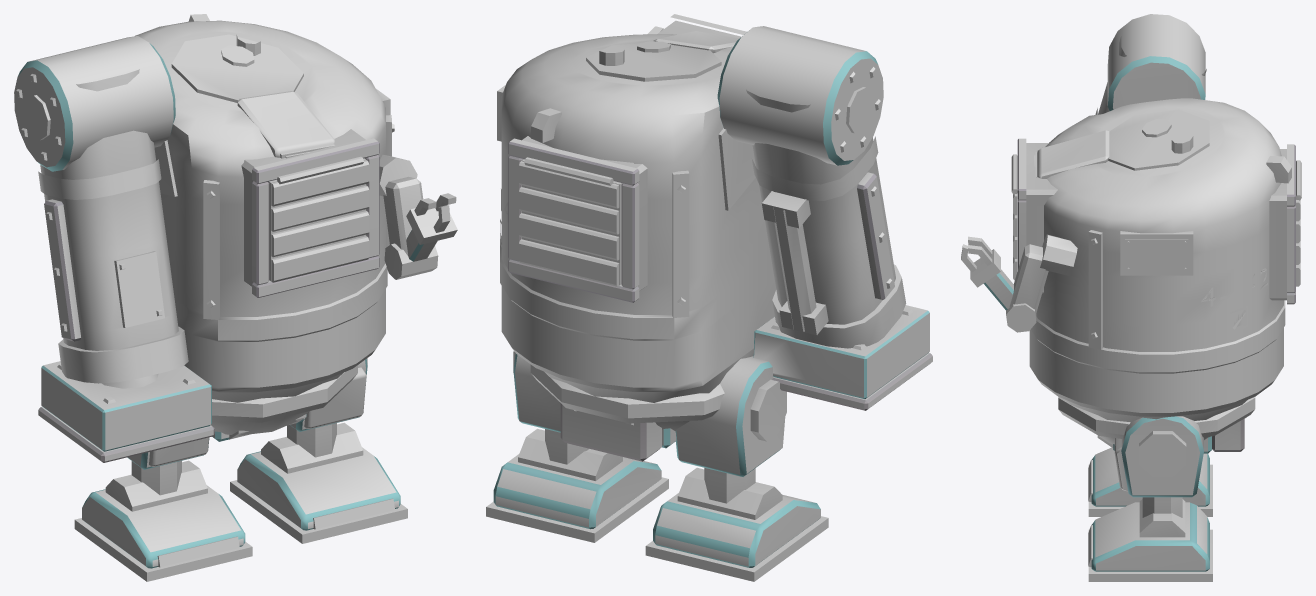
Rendered from tamper_cold_static.glb.
3 renders of one model, left to right at view 1: azimuth 30°, elevation 25°; view 2: azimuth 150°, elevation 25°; view 3: azimuth 270°, elevation 25°, orthographic. The views are drawn at different scales.
Parts seen in each view (by area): view 1: tamper_cold_mesh; view 2: tamper_cold_mesh; view 3: tamper_cold_mesh.
Boxes of the visible parts, bbox=[...] form: tamper_cold_mesh: bbox=[14, 14, 457, 581]; tamper_cold_mesh: bbox=[486, 14, 932, 581]; tamper_cold_mesh: bbox=[961, 14, 1301, 581].
Size of the model in its own units: 1.69 by 2.42 by 1.73.
